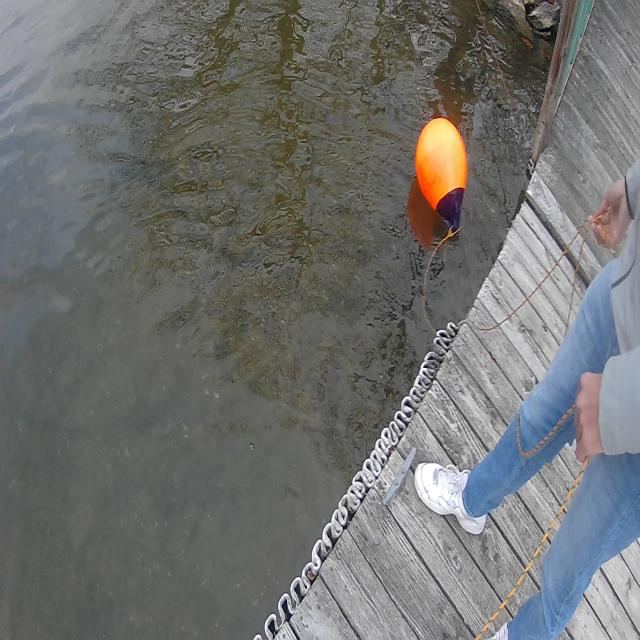Buoy: (412, 107, 473, 240)
